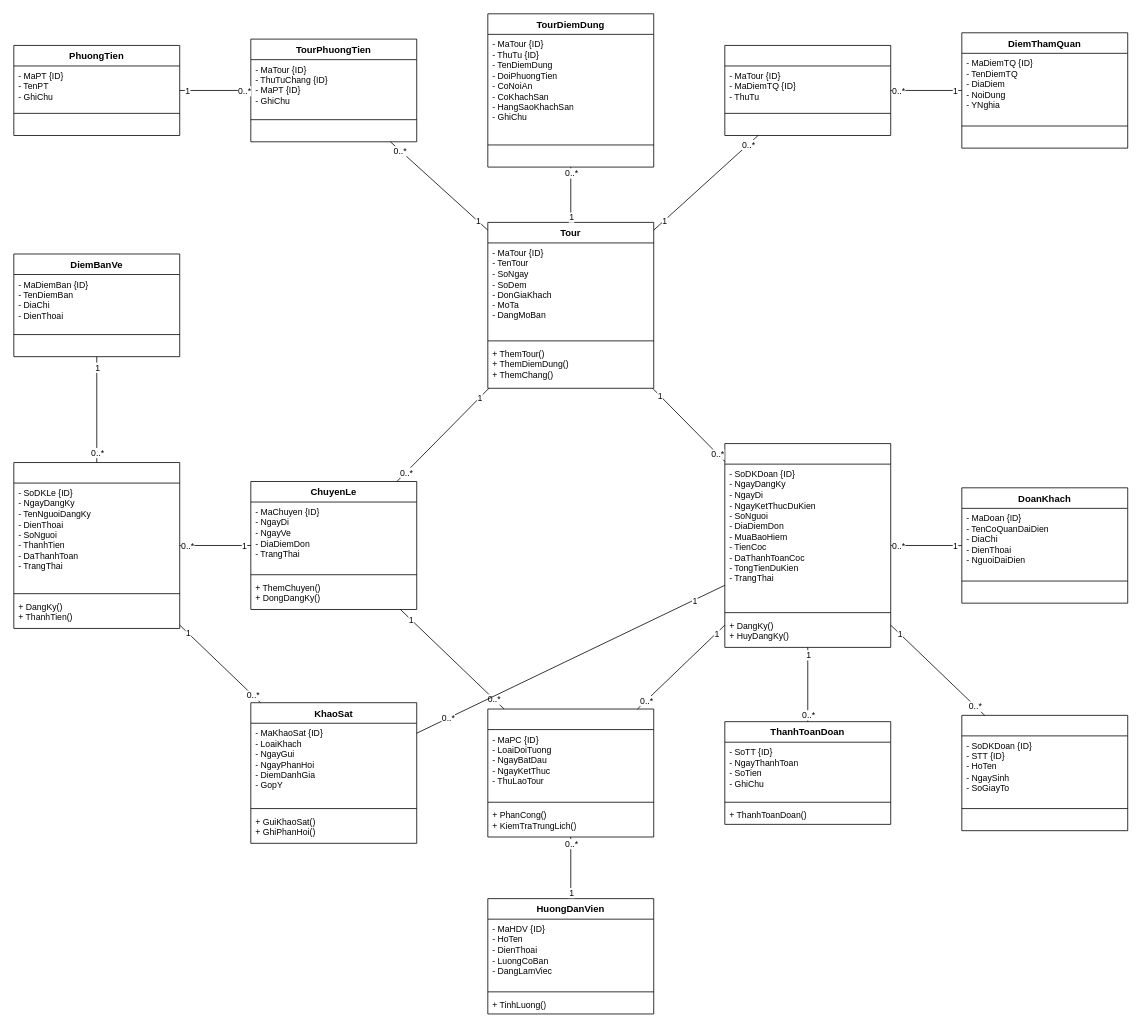
The diagram is 1142 pixels wide and 1030 high, and some of its shapes have lost their labels. The box of each missing label's shape, as (x1, y1, x2, y2) in pixels:
DangKyDoan: (724, 443, 891, 647)
DangKyLe: (13, 462, 180, 628)
PhanCongHDV: (487, 708, 654, 837)
ThanhVienDoan: (961, 715, 1128, 831)
TourDiemThamQuan: (724, 45, 891, 135)
